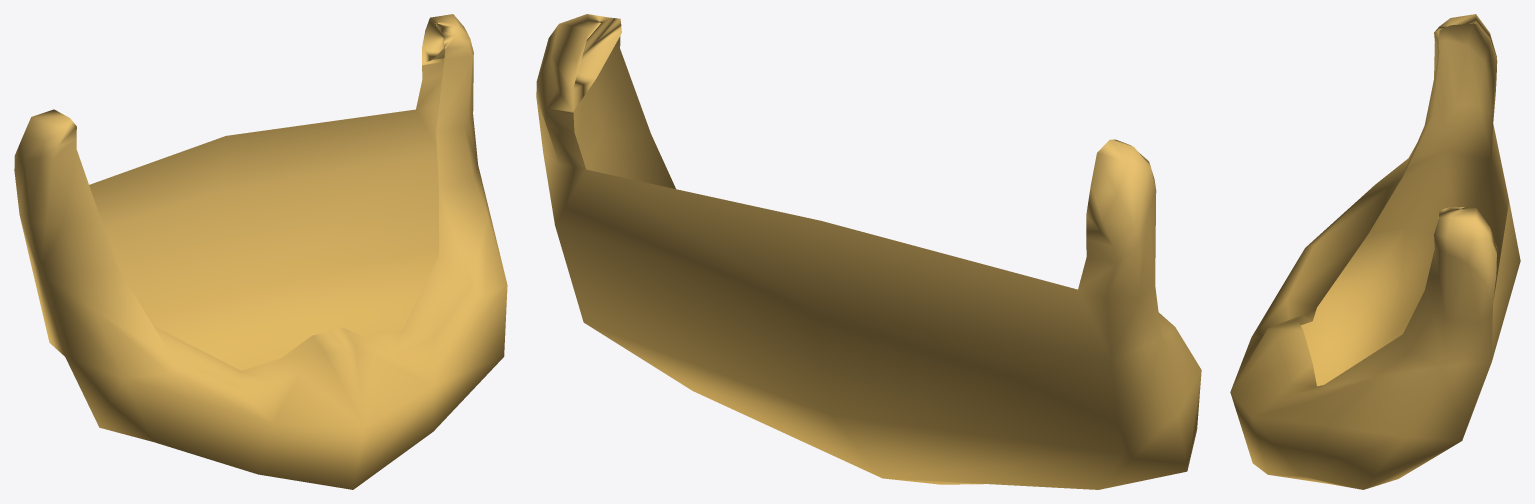
The model's file is Mustache_19.fbx.
3 renders of one model, left to right at view 1: azimuth 30°, elevation 25°; view 2: azimuth 150°, elevation 25°; view 3: azimuth 270°, elevation 25°, orthographic. The views are drawn at different scales.
Parts seen in each view (by area): view 1: Mustache_19; view 2: Mustache_19; view 3: Mustache_19.
Boxes of the visible parts, <box> form: Mustache_19: <box>14,14,507,489</box>; Mustache_19: <box>536,14,1201,489</box>; Mustache_19: <box>1230,14,1520,489</box>.
Bounding box in the file's own units: 52.51 × 38.74 × 29.34.
